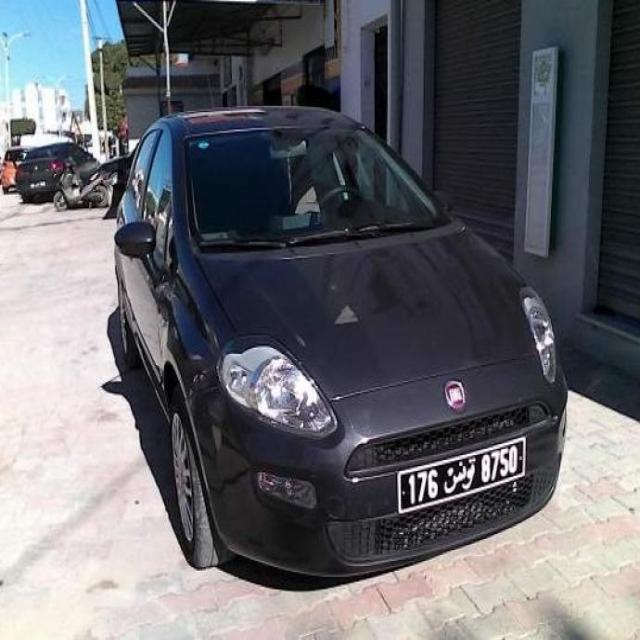LP: (394, 430, 528, 514)
